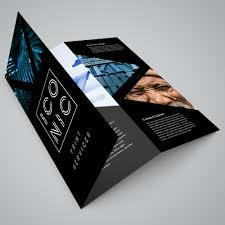paper: (5, 13, 219, 208)
